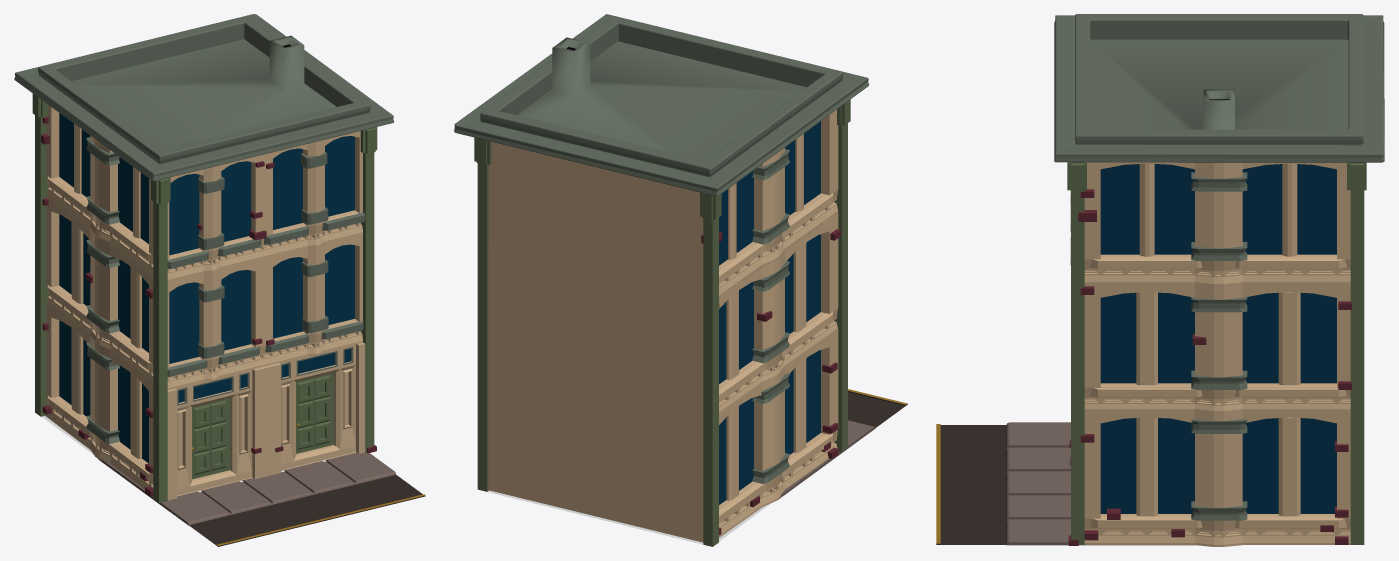
The model's file is PredioNovo1.fbx.
The picture shows the model from 3 angles, left to right: view 1: azimuth 30°, elevation 25°; view 2: azimuth 150°, elevation 25°; view 3: azimuth 270°, elevation 25°; orthographic projection. The views are drawn at different scales.
Visible parts, largest first — view 1: Teto, Teto.001, Parede.001, Parede.002, Parede.004, Parede.020, Parede.018, Calçada, Parede.019, Rua, Pilastra.002, Pilastra.003 (+20 smaller); view 2: Parede.007, Parede.008, Teto, Parede.009, Teto.001, Parede.020, Parede.018, Parede.019, Pilastra.003, Pilastra.001, Janela.017, Janela.016 (+6 smaller); view 3: Teto, Teto.001, Parede.006, Parede.003, Parede.005, Janela.013, Janela.011, Calçada, Rua, Janela.009, Janela.010, Pilastra.001 (+8 smaller).
Boxes of the visible parts, x1,y1,x2,y2 form: Teto: (14,14,394,181); Teto.001: (72,35,336,148); Parede.001: (167,342,365,500); Parede.002: (167,234,362,389); Parede.004: (167,131,362,281); Parede.020: (45,302,153,489); Parede.018: (46,197,153,381); Calçada: (98,452,395,525); Parede.019: (46,105,153,276); Rua: (189,475,425,546); Pilastra.002: (151,177,170,502); Pilastra.003: (32,93,49,416); Parede.007: (488,367,703,542); Parede.008: (488,245,703,419); Teto: (454,14,869,196); Parede.009: (488,141,703,297); Teto.001: (517,37,806,161); Parede.020: (707,328,838,546); Parede.018: (719,213,838,414); Parede.019: (719,109,838,296); Pilastra.003: (700,192,721,546); Pilastra.001: (474,137,491,491); Janela.017: (719,350,820,504); Janela.016: (719,234,820,383); Teto: (1054,14,1384,162); Teto.001: (1090,39,1348,129); Parede.006: (1084,409,1350,546); Parede.003: (1084,284,1350,410); Parede.005: (1084,162,1350,285); Janela.013: (1100,418,1336,513); Janela.011: (1100,292,1336,383); Calçada: (1006,422,1194,545); Rua: (936,425,1006,544); Janela.009: (1100,164,1194,254); Janela.010: (1242,164,1336,254); Pilastra.001: (1347,162,1366,544).
Size of the model in its own units: 233 by 343 by 316.
